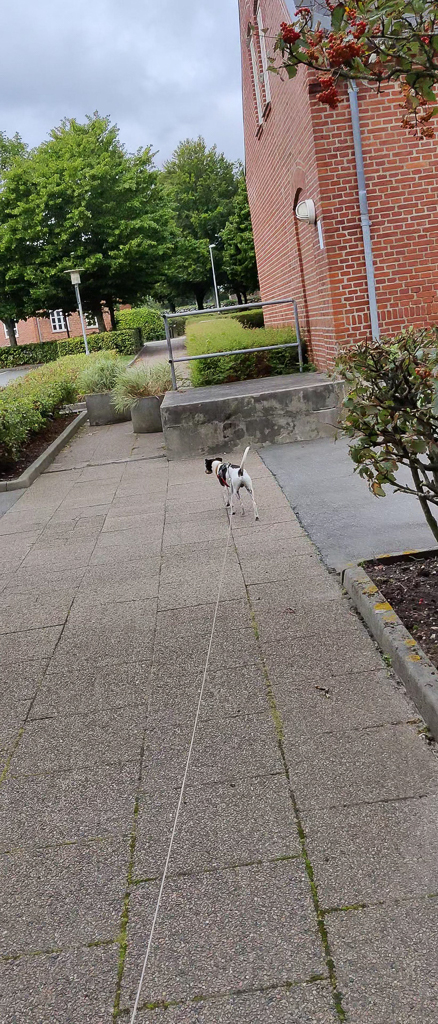Dog: (198, 443, 268, 525)
